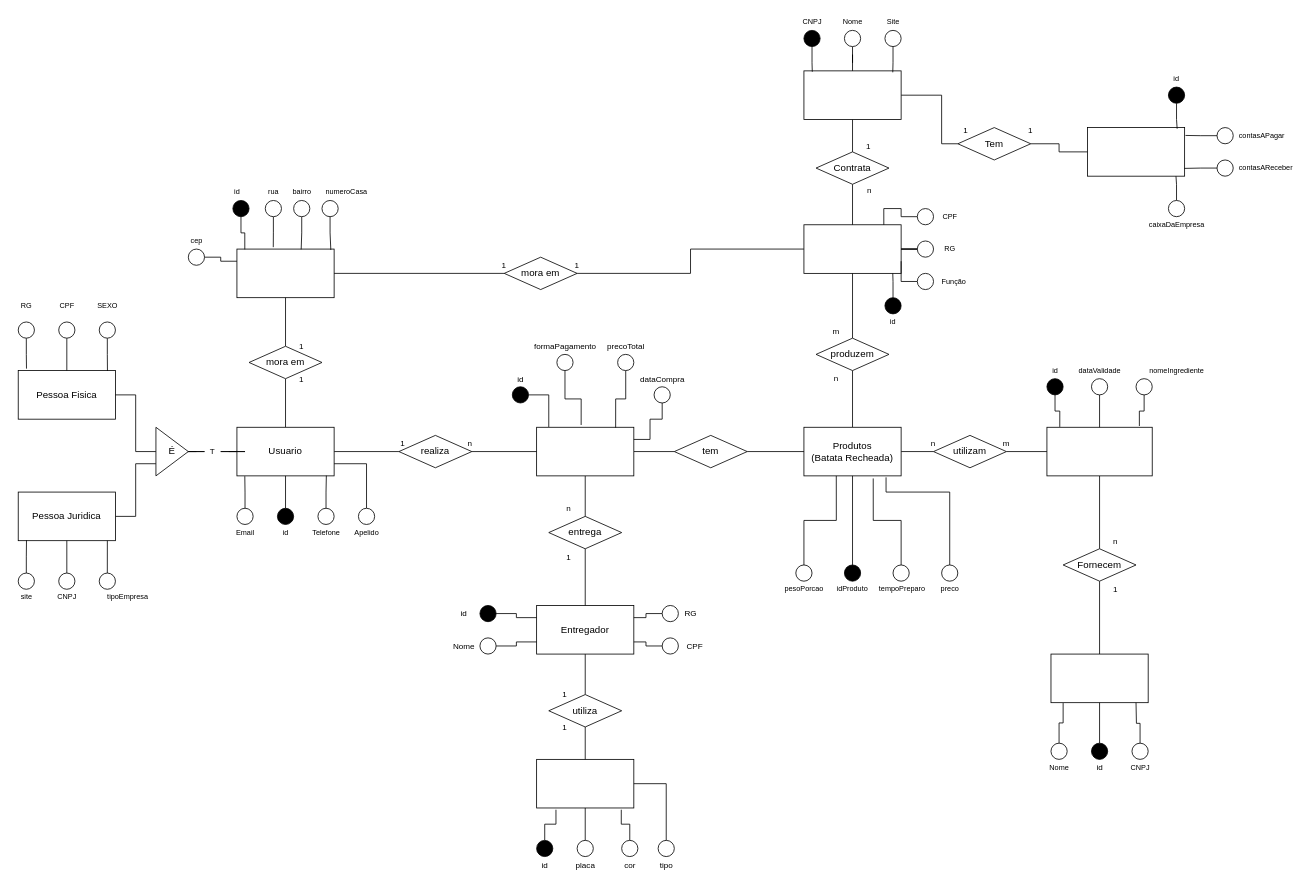
The diagram is 1311 pixels wide and 886 high, and some of its shapes have lost their labels. Here are the shapes that lost their labels. From the top down, the centre of each, then its label:
At [852,94]: "Loja".
At [1136,151]: "Setor financeiro".
At [852,248]: "Funcionarios".
At [285,273]: "Endereco".
At [585,451]: "Compra".
At [1099,451]: "estoque_ingredientes".
At [1099,678]: "Fornecedor".
At [585,783]: "Veiculo".
